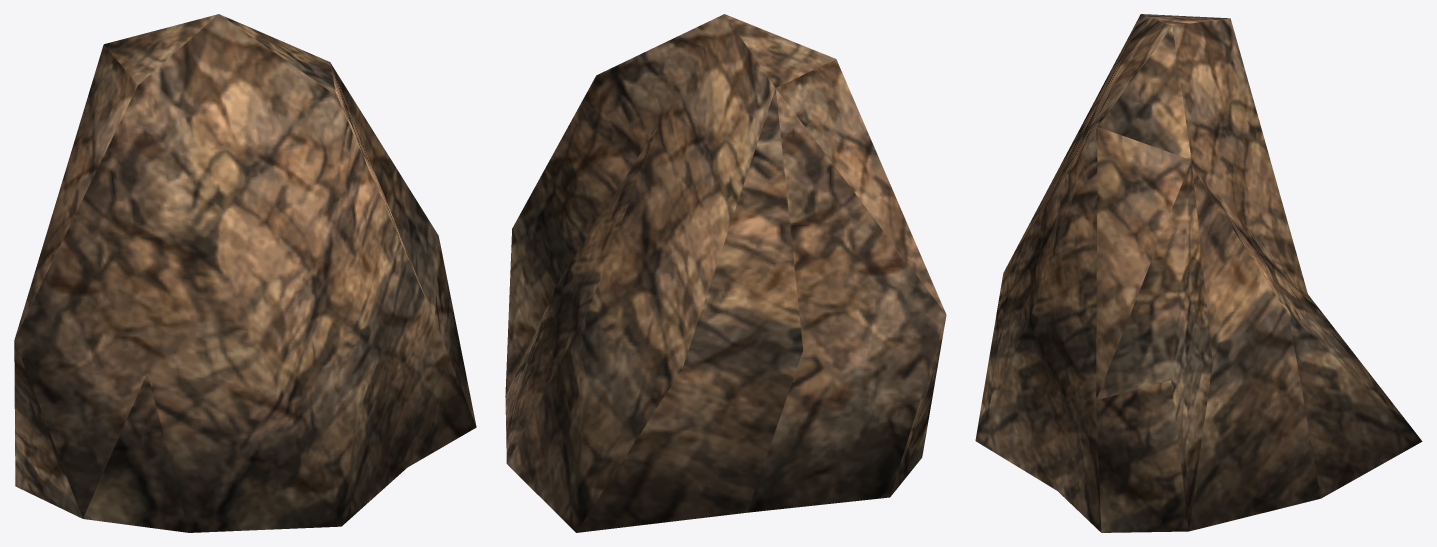
File: RockWall3.fbx
The picture shows the model from 3 angles, left to right: view 1: azimuth 30°, elevation 25°; view 2: azimuth 150°, elevation 25°; view 3: azimuth 270°, elevation 25°; orthographic projection. The views are drawn at different scales.
Parts seen in each view (by area): view 1: Icosphere.004; view 2: Icosphere.004; view 3: Icosphere.004.
Part boxes in pixels (x1,y1,x2,y2): Icosphere.004: (14, 14, 476, 532); Icosphere.004: (505, 14, 946, 532); Icosphere.004: (975, 14, 1422, 532).
Bounding box in the file's own units: 216 × 208 × 207.
